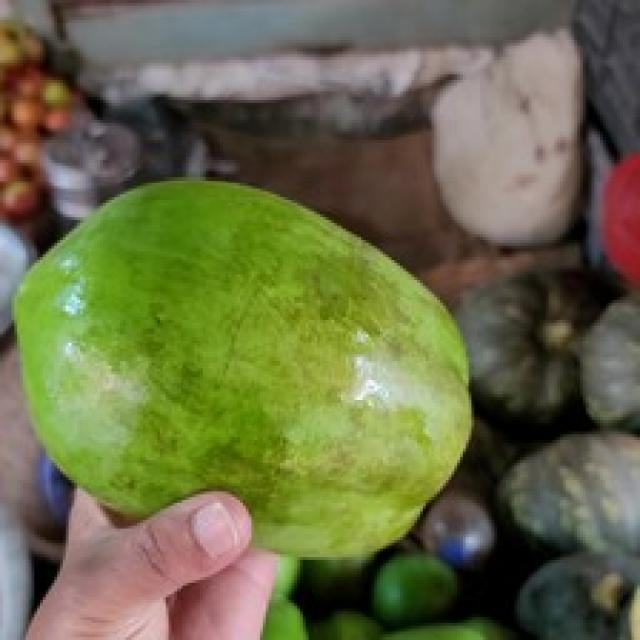Pepaya unrippen: (6, 166, 499, 561)
